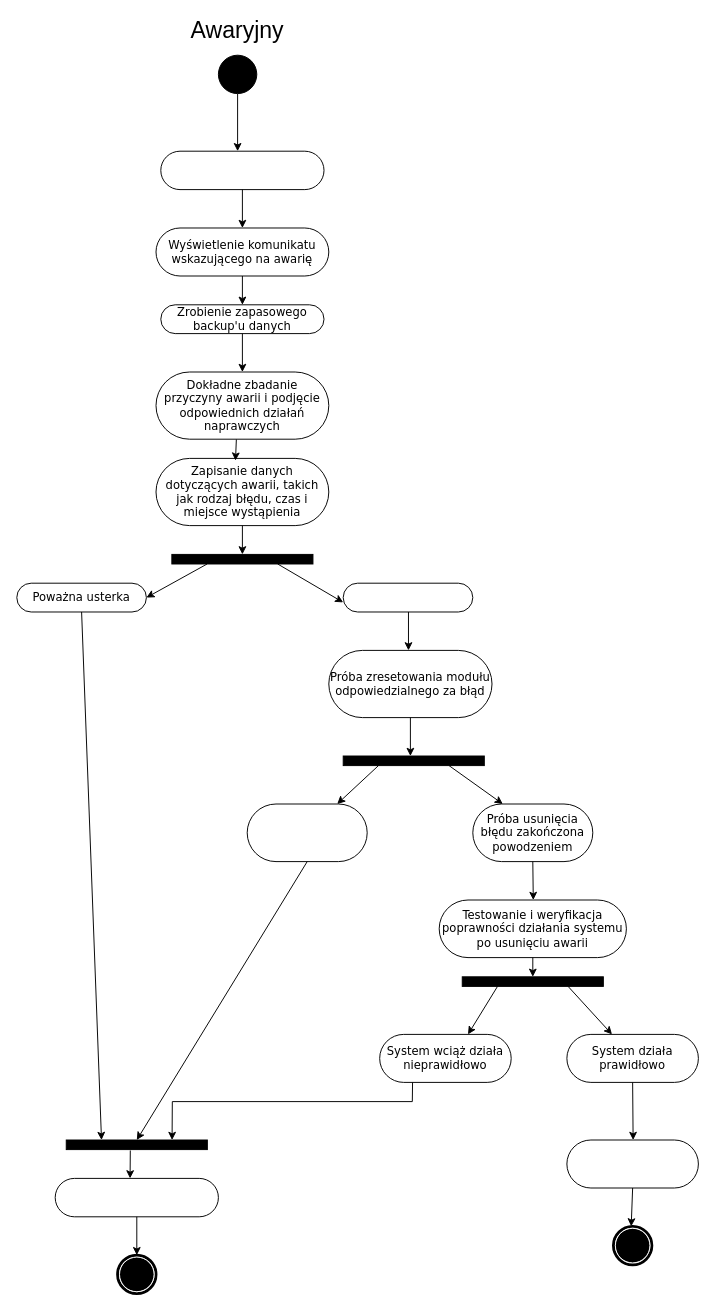
Some shapes in this 715 by 1310 pixel diagram are drawn without their labels. The shapes that lost their labels are listed below. From the top down, each one's box as (x1, y1, x2, y2) in pixels, then its label:
(160, 150, 324, 190): Wykrycie poważnej usterki lub błędu systemu
(342, 582, 473, 612): Błąd systemu
(246, 803, 367, 862): Próba usunięcia błędu zakończona niepowodzeniem
(566, 1139, 698, 1188): Wznowienie normalnej pracy stacji pogodowej
(54, 1177, 218, 1217): System przechodzi w stan uśpienia
